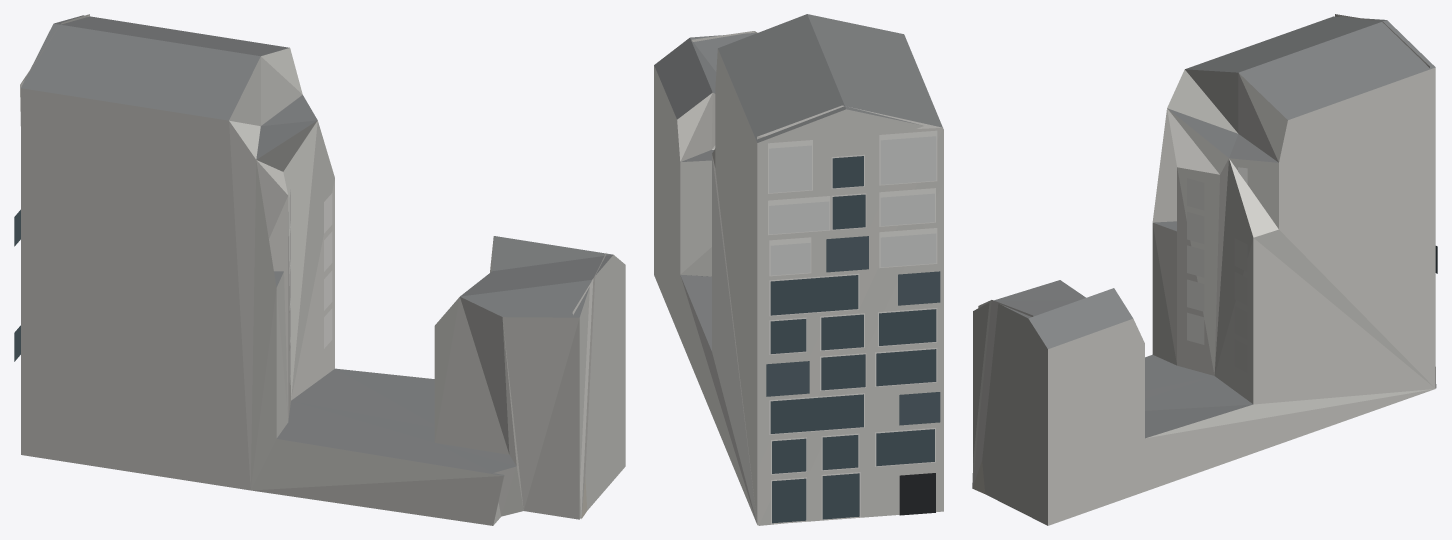
Rendered from de-rede.lod2.glb.
The picture shows the model from 3 angles, left to right: view 1: azimuth 30°, elevation 25°; view 2: azimuth 150°, elevation 25°; view 3: azimuth 270°, elevation 25°; orthographic projection. The views are drawn at different scales.
Parts seen in each view (by area): view 1: lod2; view 2: lod2; view 3: lod2.
Part boxes in pixels (bbox=[...]): lod2: bbox=[14, 14, 625, 525]; lod2: bbox=[654, 14, 943, 525]; lod2: bbox=[972, 14, 1437, 525].
Bounding box in the file's own units: 36.3 × 30.86 × 37.73.
